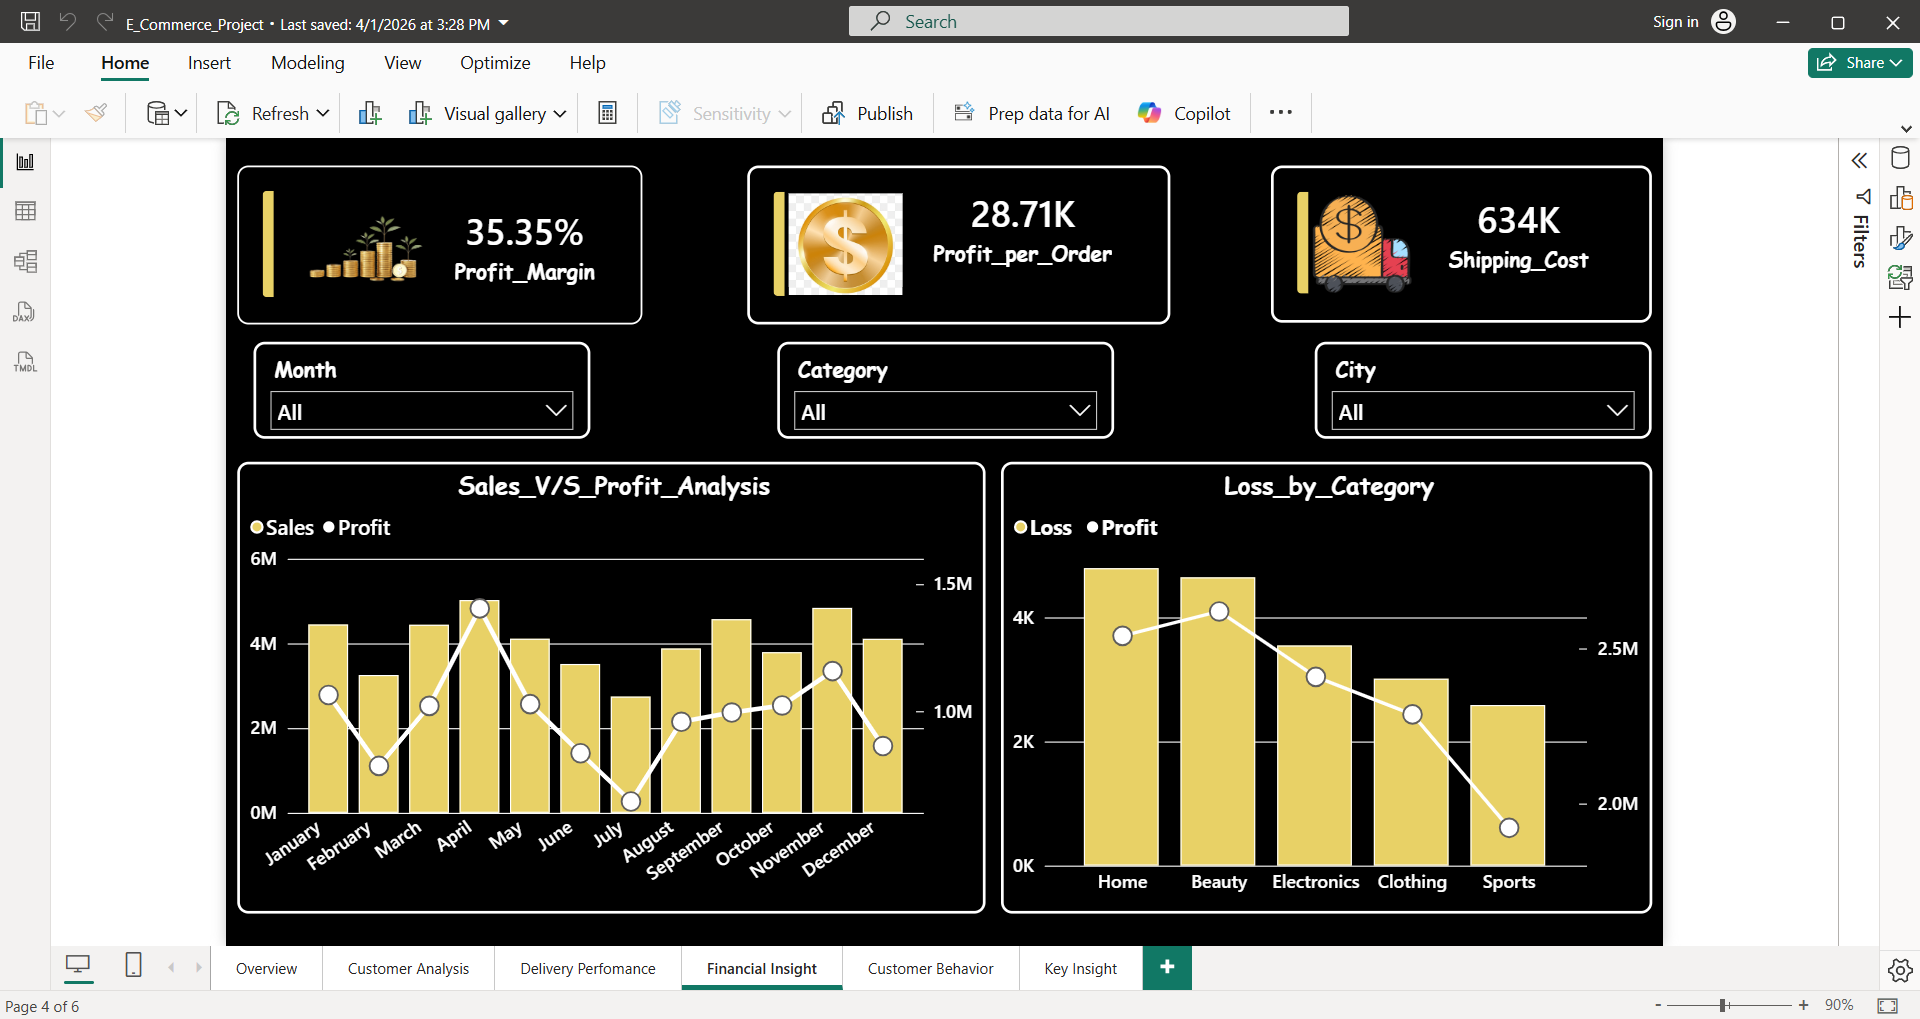

Layout of this report page (visuals, bound fields, positions):
{"tool":"powerbi","page":{"name":"Financial Insight","canvas":[1280,720],"ordinal":3},"visuals":[{"type":"cardVisual","fields":{"Data":["Financial Insight.Profit Margin"]},"box":[10.1,24.5,360.7,141.4],"z":0},{"type":"cardVisual","fields":{"Data":["Financial Insight.Profit per Order"]},"box":[464.6,24.5,376.6,141.4],"z":1000},{"type":"cardVisual","fields":{"Data":["Financial Insight.Shipping Cost"]},"box":[930.6,24.5,339,139.9],"z":2000},{"type":"lineClusteredColumnComboChart","title":"Sales_V/S_Profit_Analysis","fields":{"Category":["E_Commerce_Dataset.Order_Date.Variation.Date Hierarchy.Month"],"Y":["Sum(E_Commerce_Dataset.Sales)"],"Y2":["Sum(E_Commerce_Dataset.Profit)"]},"box":[10.1,288.6,666.6,402.5],"z":3000},{"type":"lineStackedColumnComboChart","title":"Loss_by_Category","fields":{"Category":["E_Commerce_Dataset.Category"],"Y":["Financial Insight.Loss (Positive)"],"Y2":["Sum(E_Commerce_Dataset.Profit)"]},"box":[689.6,288.6,580,402.5],"z":4000},{"type":"slicer","fields":{"Values":["E_Commerce_Dataset.Order_Date.Variation.Date Hierarchy.Month"]},"box":[24.5,181.8,300.1,86.6],"z":5000},{"type":"slicer","fields":{"Values":["E_Commerce_Dataset.Category"]},"box":[490.5,181.8,300.1,86.6],"z":6000},{"type":"slicer","fields":{"Values":["E_Commerce_Dataset.City"]},"box":[969.5,181.8,300.1,86.6],"z":7000}]}

Visuals, with their boxes on the page's 1280x720 design canvas (x1, y1, x2, y2). These are canvas units, not pixel positions in the 1920x1019 screenshot, which may show the page scaled, cropped or inside an application window:
cardVisual - Financial Insight.Profit Margin: [left=10, top=24, right=371, bottom=166]
cardVisual - Financial Insight.Profit per Order: [left=465, top=24, right=841, bottom=166]
cardVisual - Financial Insight.Shipping Cost: [left=931, top=24, right=1270, bottom=164]
"Sales_V/S_Profit_Analysis" lineClusteredColumnComboChart: [left=10, top=289, right=677, bottom=691]
"Loss_by_Category" lineStackedColumnComboChart: [left=690, top=289, right=1270, bottom=691]
slicer - E_Commerce_Dataset.Order_Date.Variation.Date Hierarchy.Month: [left=24, top=182, right=325, bottom=268]
slicer - E_Commerce_Dataset.Category: [left=490, top=182, right=791, bottom=268]
slicer - E_Commerce_Dataset.City: [left=970, top=182, right=1270, bottom=268]
